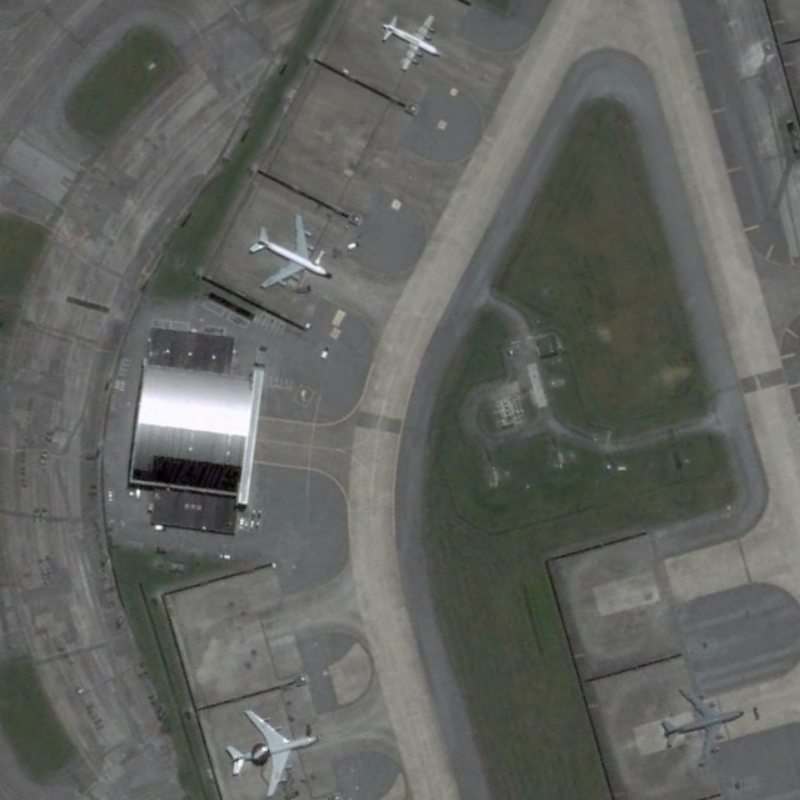A11: (241, 209, 340, 294)
A14: (658, 680, 753, 773)
A7: (220, 699, 323, 798)
A9: (371, 6, 449, 78)
